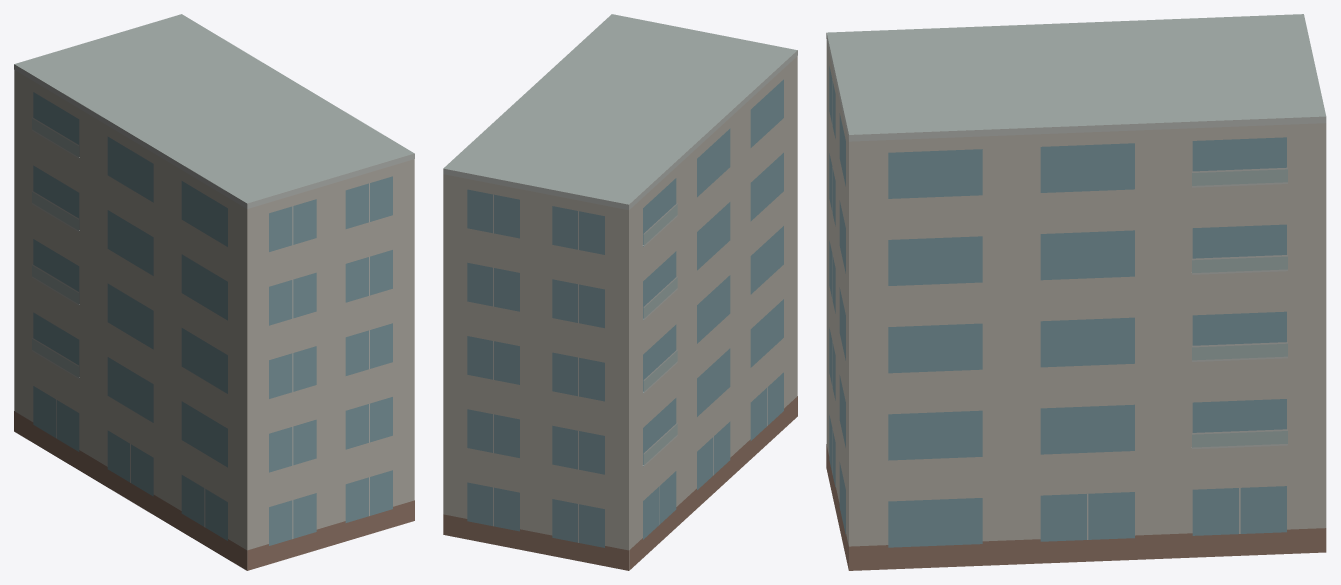
Rendered from survey-upis-32843656.glb.
The picture shows the model from 3 angles, left to right: view 1: azimuth 30°, elevation 25°; view 2: azimuth 150°, elevation 25°; view 3: azimuth 270°, elevation 25°; orthographic projection. The views are drawn at different scales.
Visible parts, largest first — view 1: survey-upis-32843656.tmp; view 2: survey-upis-32843656.tmp; view 3: survey-upis-32843656.tmp.
Part boxes in pixels (x1=…): survey-upis-32843656.tmp: x1=14, y1=14, x2=414, y2=570; survey-upis-32843656.tmp: x1=443, y1=14, x2=797, y2=570; survey-upis-32843656.tmp: x1=826, y1=14, x2=1326, y2=570.
Bounding box in the file's own units: 9.59 × 16.1 × 16.74.
